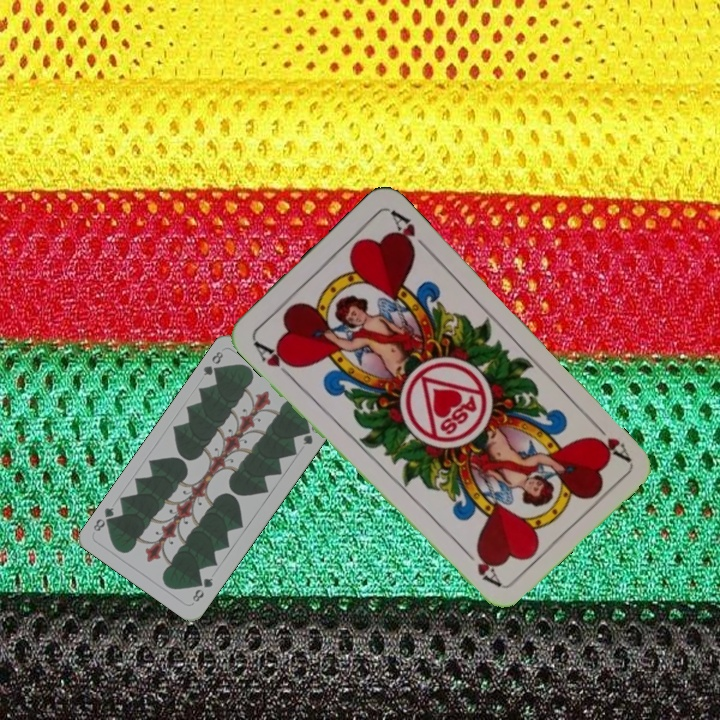G8: (188, 574, 216, 605), (199, 347, 226, 379)
HA: (585, 415, 633, 464), (249, 336, 300, 382)
